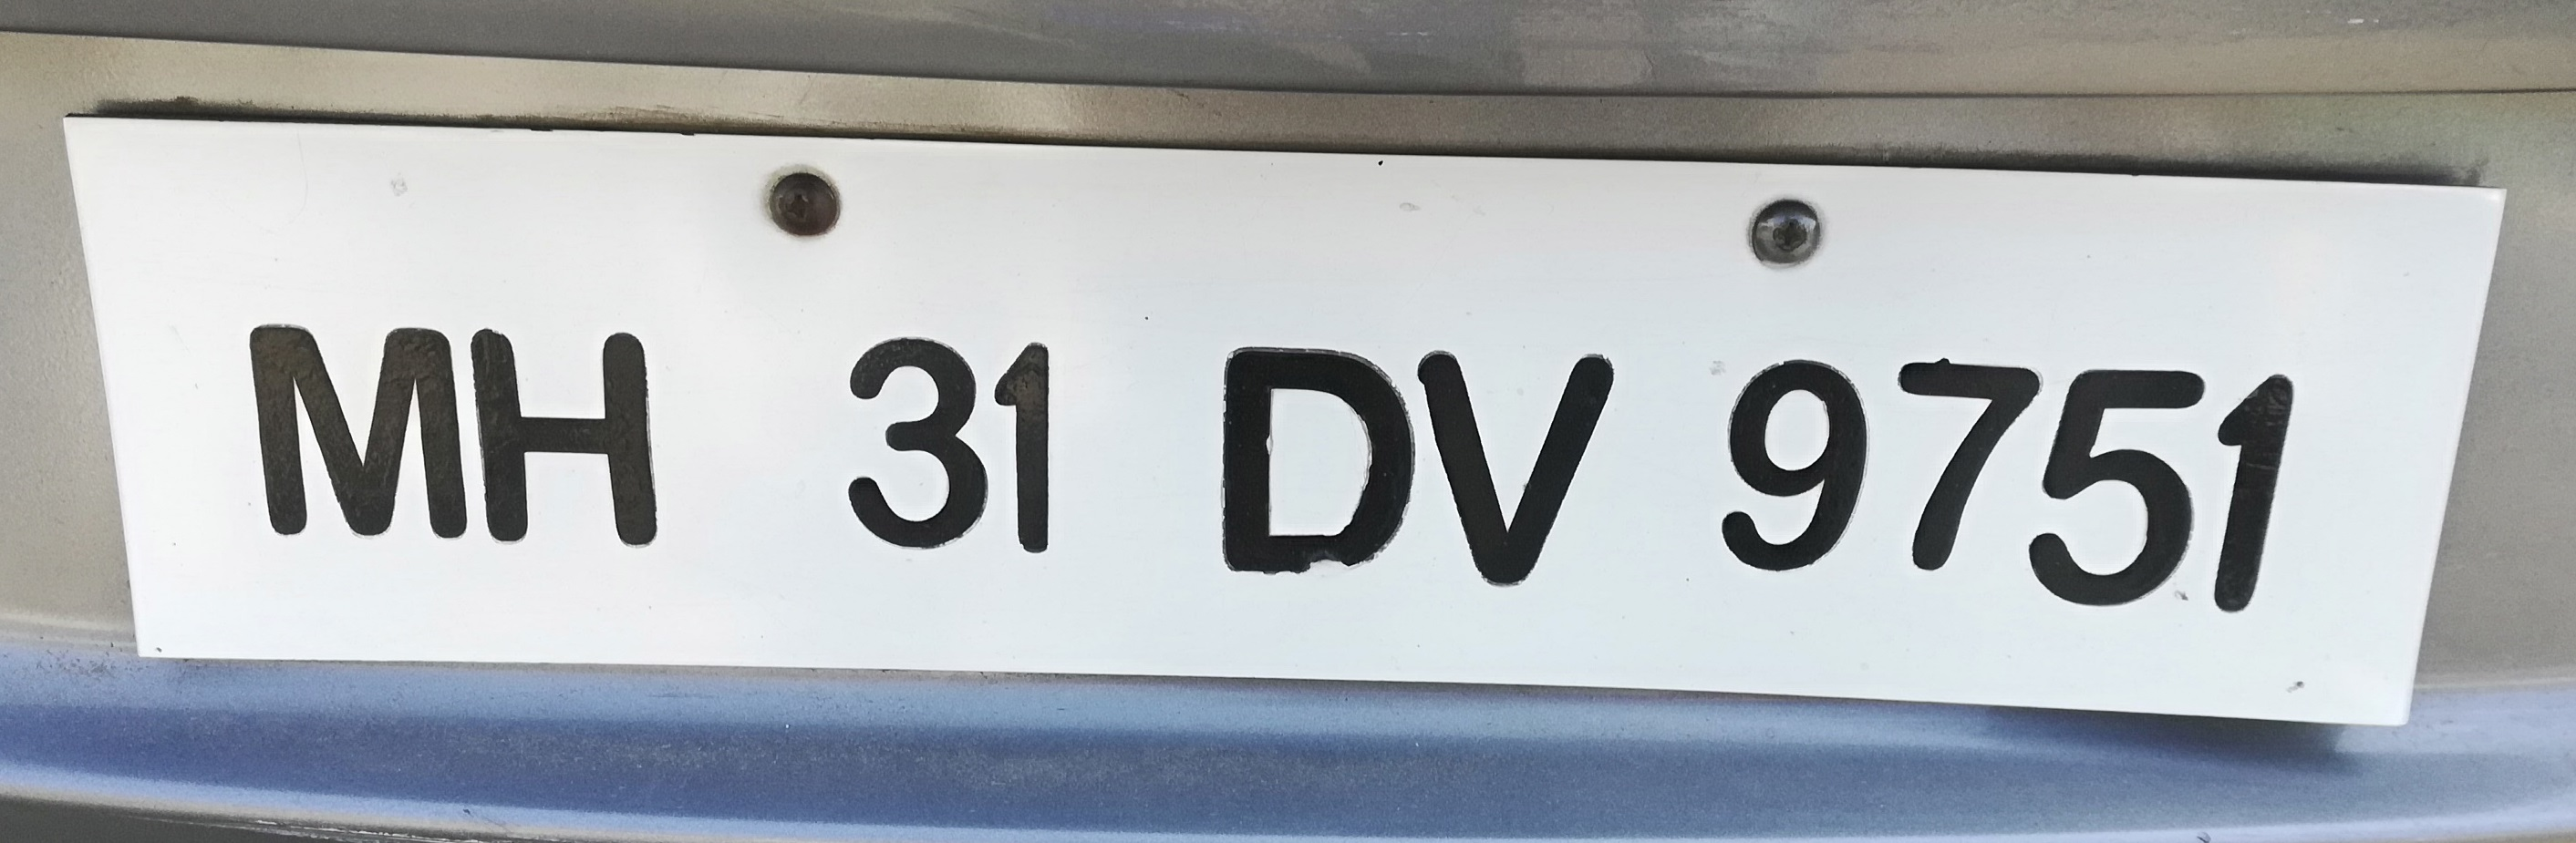numberplate: (55, 108, 2502, 745)
